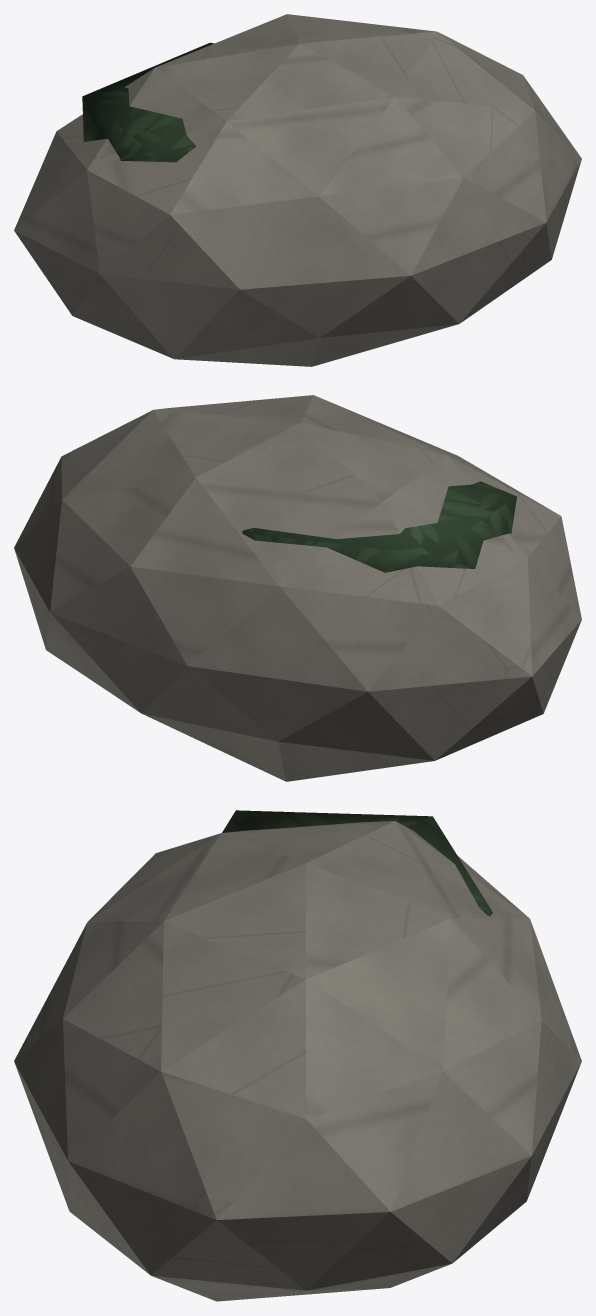
The model's file is Furn_Rock_Large.fbx.
3 renders of one model, top to bottom at view 1: azimuth 30°, elevation 25°; view 2: azimuth 150°, elevation 25°; view 3: azimuth 270°, elevation 25°, orthographic. The views are drawn at different scales.
Parts seen in each view (by area): view 1: Furn_Rock_Large_Mesh; view 2: Furn_Rock_Large_Mesh; view 3: Furn_Rock_Large_Mesh.
Boxes of the visible parts, <box> form: Furn_Rock_Large_Mesh: <box>14,14,581,366</box>; Furn_Rock_Large_Mesh: <box>14,395,581,781</box>; Furn_Rock_Large_Mesh: <box>14,810,581,1301</box>.
Size of the model in its own units: 2.4 by 1.4 by 1.8.
Materials: 2 (2 with a texture image).
